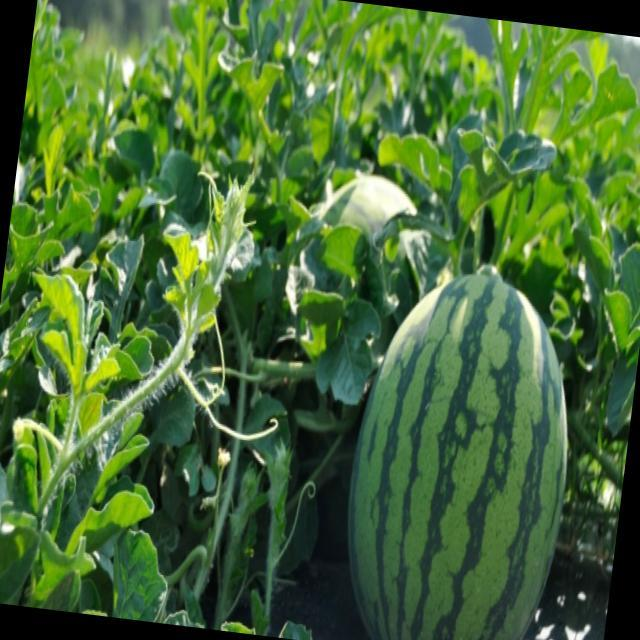WATERMELON: (336, 229, 594, 640)
